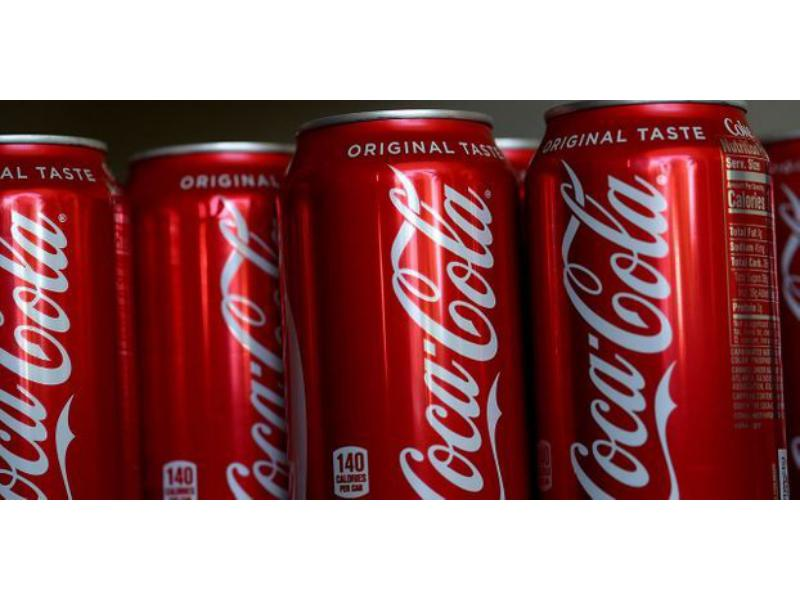can: (530, 101, 776, 497), (298, 109, 534, 502), (133, 127, 288, 503), (0, 134, 140, 498)
